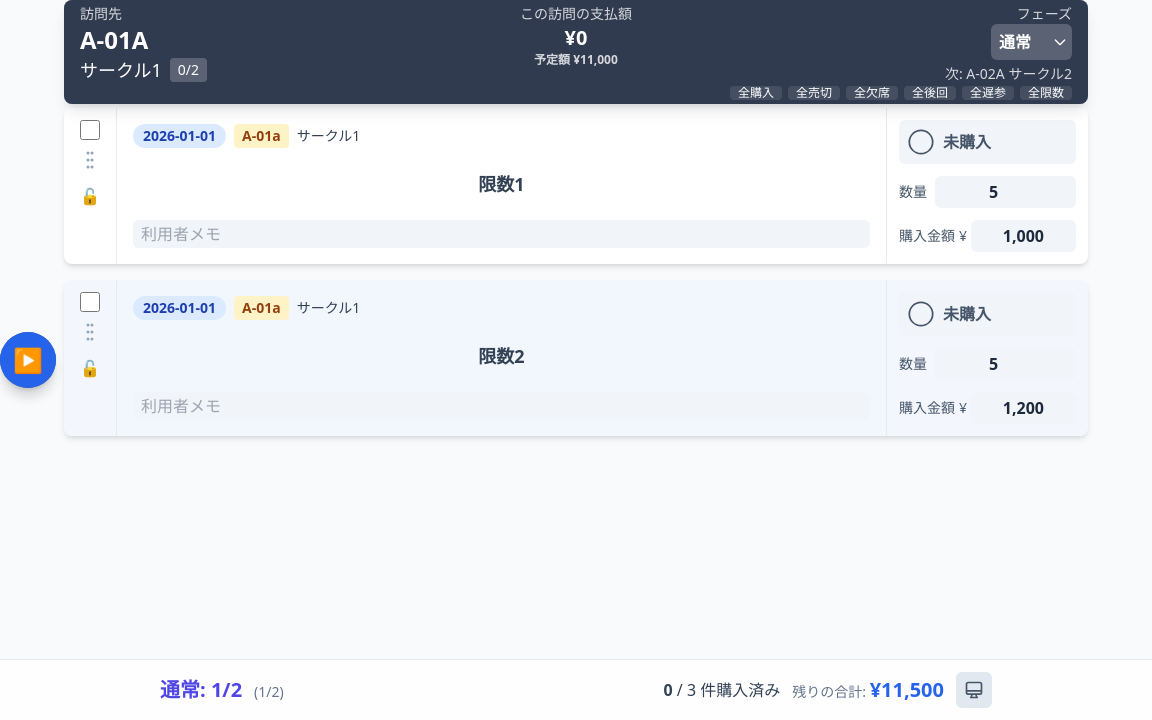
Test: FocusMode limited purchase defer - integration › allows moving forward after every missing limited purchase item is deferred from bulk limited flow
Click the button "全限数".
click(1046, 93)  # box [1020,86,1072,100]
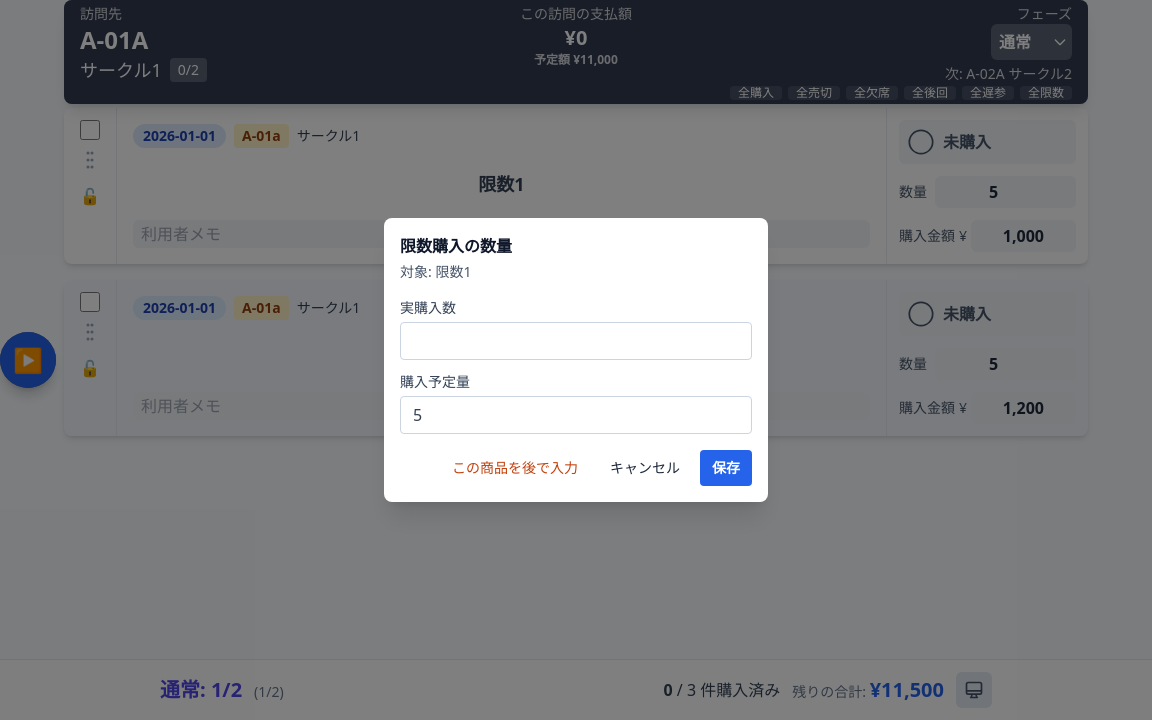
Click the button "この商品を後で入力".
click(515, 468)  # box [440,450,590,486]
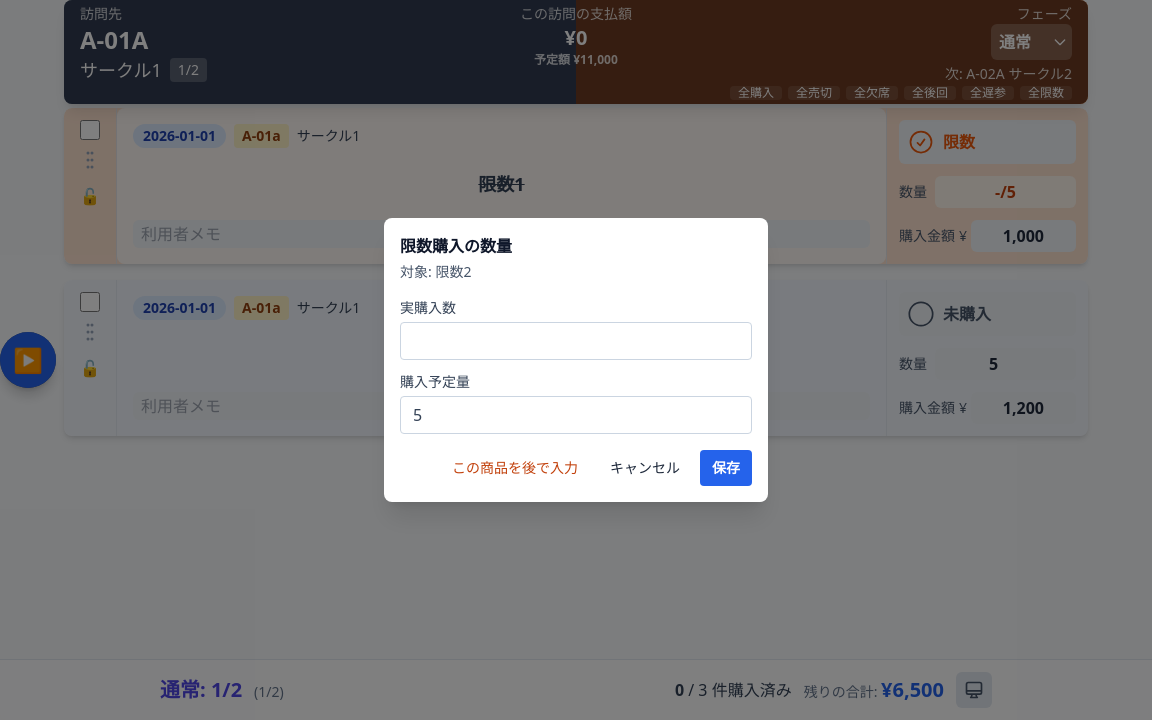
Click the button "この商品を後で入力".
click(515, 468)  # box [440,450,590,486]
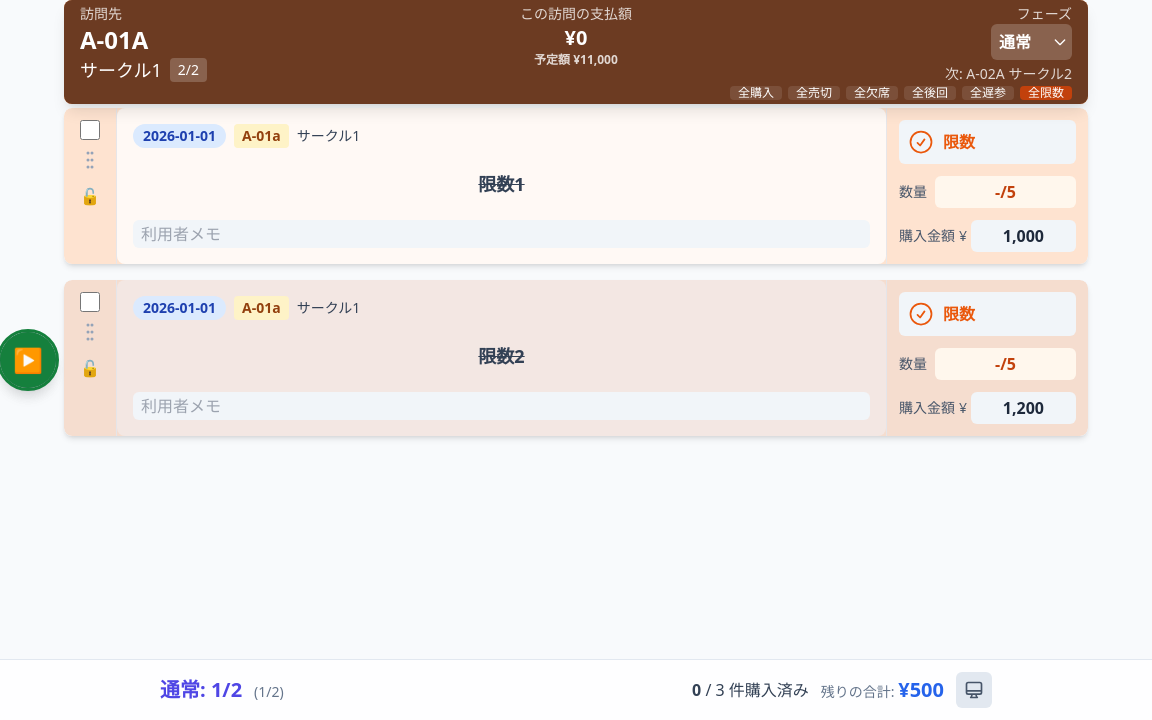
Click the button titled "次の訪問先".
click(28, 360)  # box [0,332,56,388]
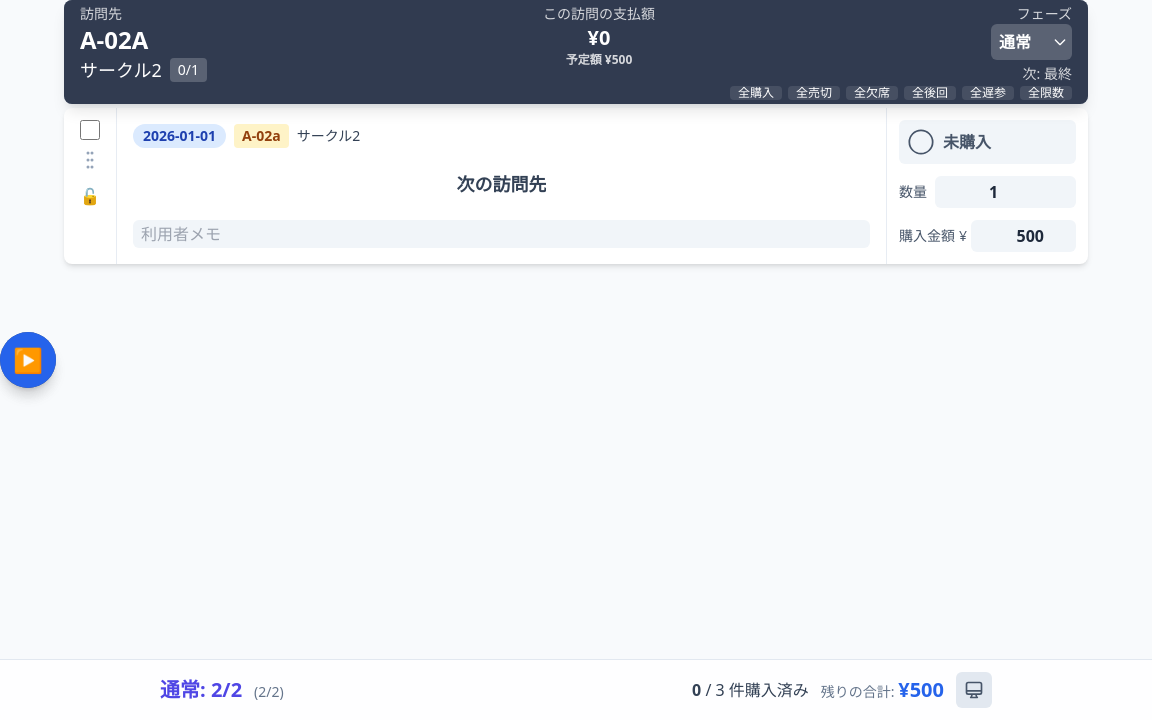
Expected: the text "A-02A" is shown, [80,23,148,56]
